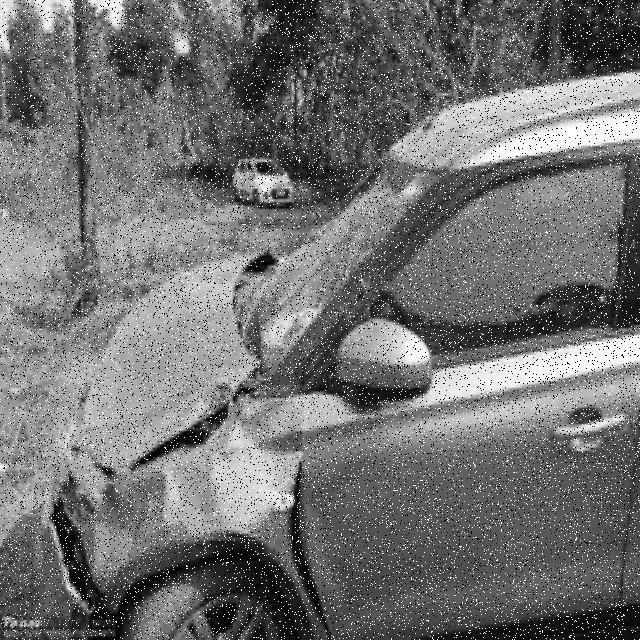Front-windscreen-damage: (260, 139, 456, 341)
bonnet-dent: (85, 242, 261, 471)
fender-dent: (114, 441, 307, 573)
front-bumper-dent: (13, 452, 118, 637)
